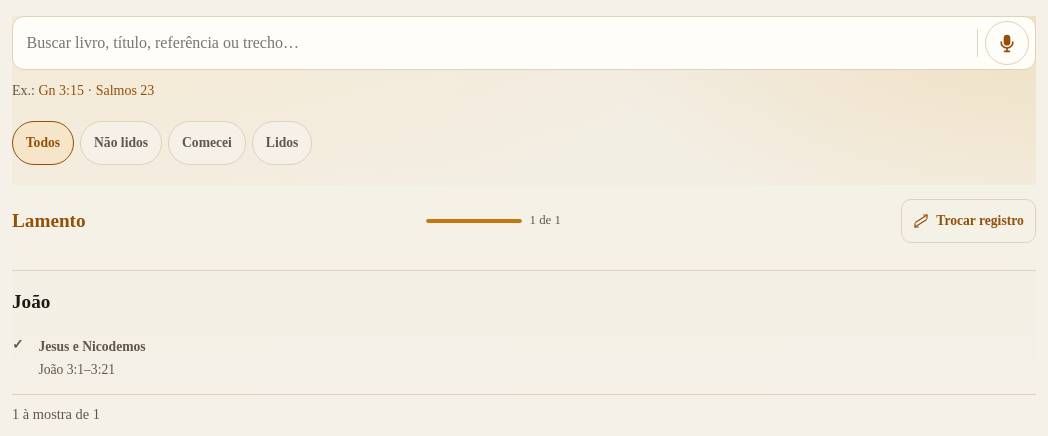
Test: Explorar › voltar do registro devolve o catálogo de registros, não o de livros
The image size is (1048, 436).
Click the button with class "trocar-livro" at (968, 221), box [901,199,1036,243]
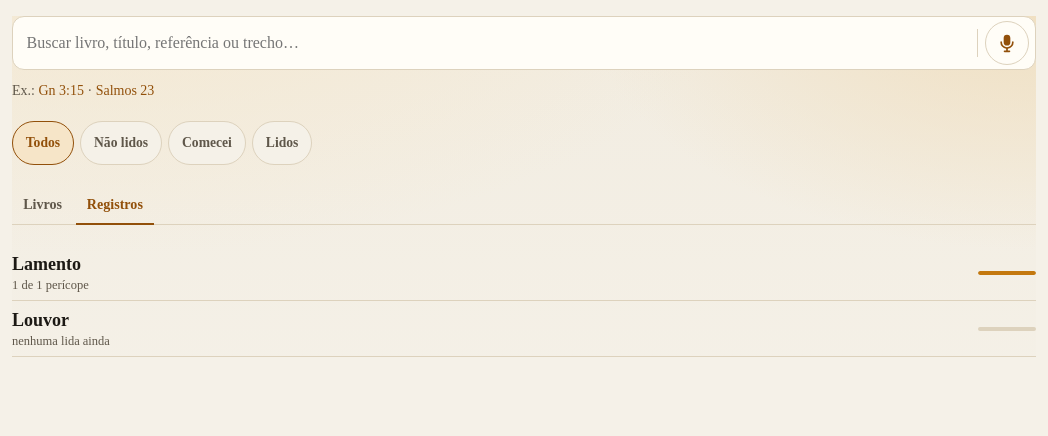
Check: the text with class "selected-book-name" is gone
